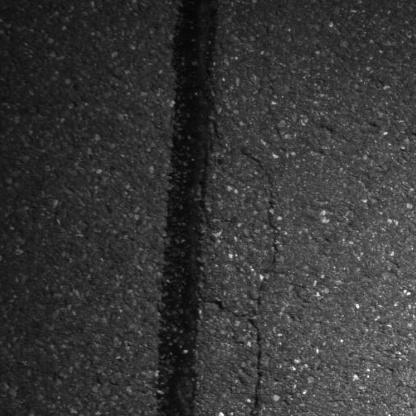Cracks: (204, 146, 284, 416)
